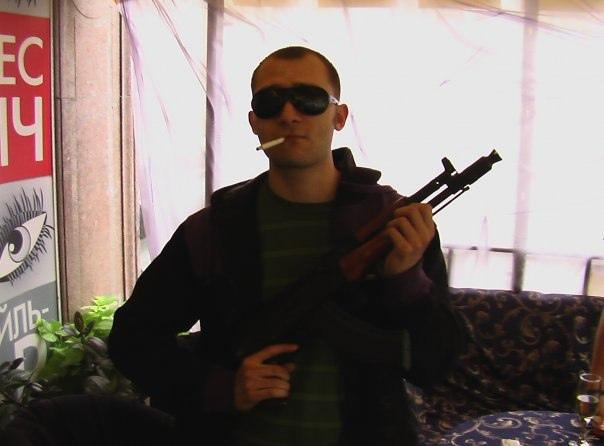cigarette: (255, 137, 285, 151)
